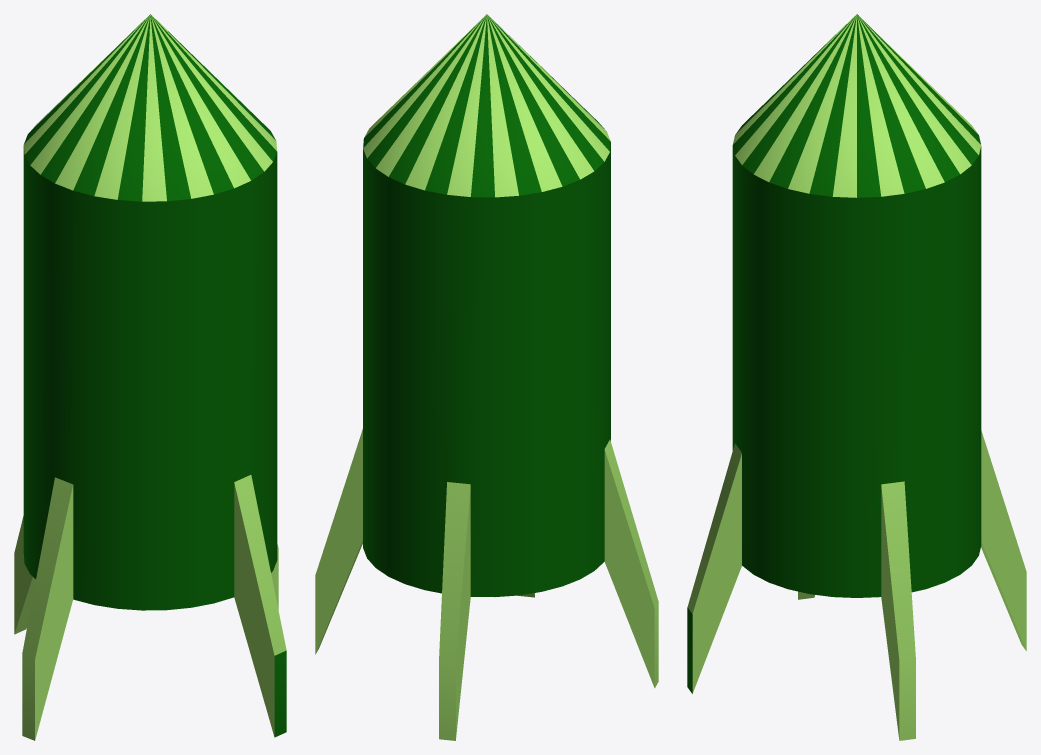
The model's file is rocket.glb.
3 views of the same model, side by side, from view 1: azimuth 30°, elevation 25°; view 2: azimuth 150°, elevation 25°; view 3: azimuth 270°, elevation 25° (orthographic). The views are drawn at different scales.
Parts seen in each view (by area): view 1: Cylinder; view 2: Cylinder; view 3: Cylinder.
Part boxes in pixels (x1,y1,x2,y2): Cylinder: (14,14,286,740); Cylinder: (315,14,658,740); Cylinder: (687,14,1026,740).
Size of the model in its own units: 0.1363 by 0.2908 by 0.1363.
